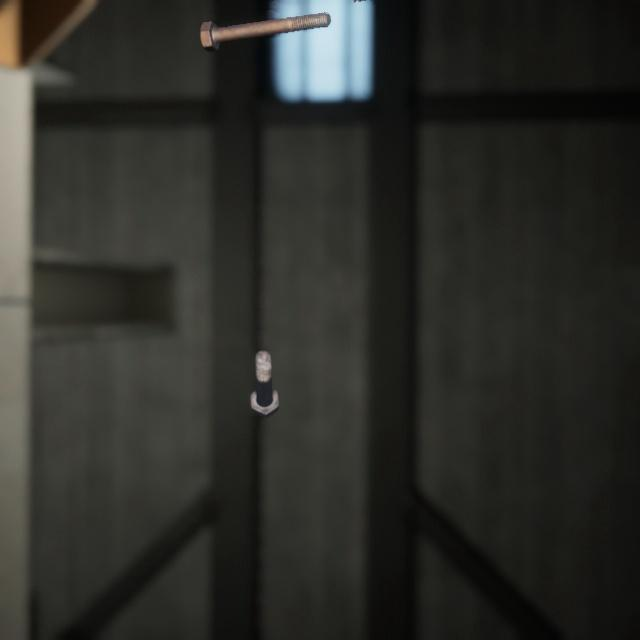bolt: (195, 0, 335, 47), (245, 325, 283, 403)
